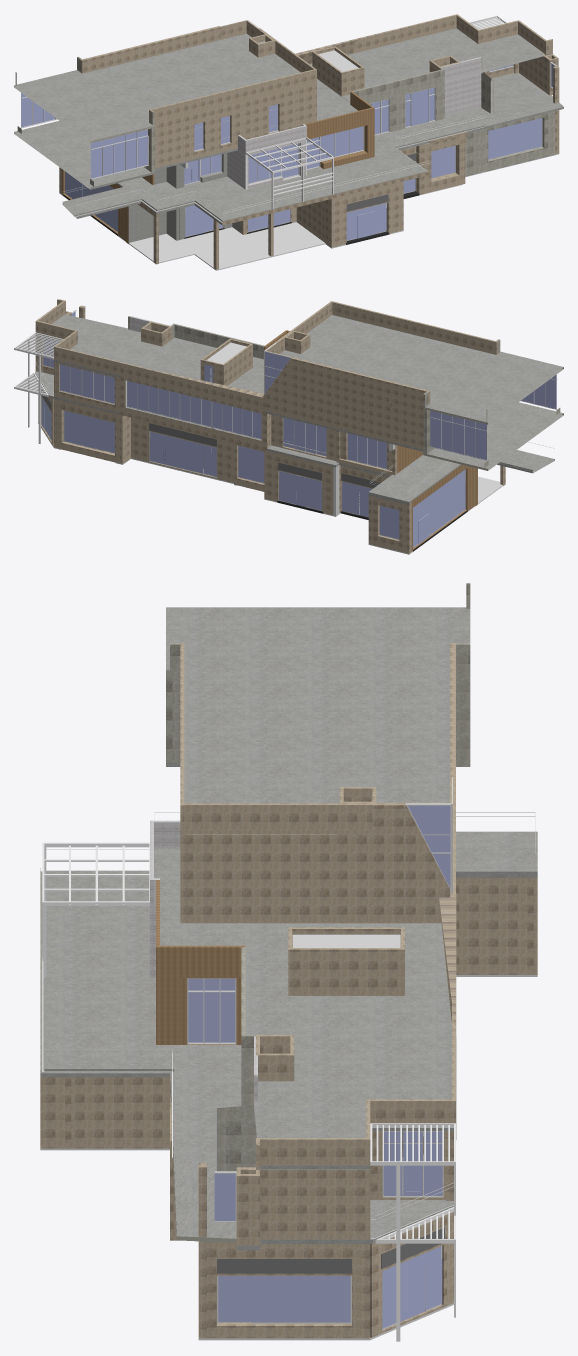
The picture shows the model from 3 angles, top to bottom: view 1: azimuth 30°, elevation 25°; view 2: azimuth 150°, elevation 25°; view 3: azimuth 270°, elevation 25°; orthographic projection. The views are drawn at different scales.
Visible parts, largest first — view 1: S.SLAB-1 S.SLAB-1 [1801362], Floor FLOOR-1 [568405], S.SLAB-2 S.SLAB-2 [363837].007, Floor S.O.G-10CM [1570572], S.SLAB-2 S.SLAB-2 [363837], Basic Wall WALL -30CM [1779040], S.SLAB-1 S.SLAB-1 [1801362].009, Basic Wall WALL -20CM [1814923], Basic Wall WALL -30CM [1778893], Basic Wall WALL -50CM [1603671], Basic Wall WALL -30CM [1781043], Basic Wall WALL -40CM [1609985] (+45 smaller); view 2: S.SLAB-1 S.SLAB-1 [1801362], Basic Wall WALL -30CM [1778893], S.SLAB-2 S.SLAB-2 [363837].007, Generic Models 5 Generic Models 5 [1834527], S.SLAB-2 S.SLAB-2 [363837], Floor FLOOR-1 [568405], Basic Wall WALL -20CM [1814923], Basic Wall WALL -20CM [1606954], Basic Wall WALL -30CM [1602697], Basic Wall WALL -50CM [1608965], S.SLAB-1 S.SLAB-1 [1801362].009, Canopy-3 Canopy-3 [975324] (+37 smaller); view 3: S.SLAB-1 S.SLAB-1 [1801362], Floor FLOOR-1 [568405], S.SLAB-2 S.SLAB-2 [363837].007, Basic Wall WALL -30CM [1807120], S.SLAB-2 S.SLAB-2 [363837], S.SLAB-1 S.SLAB-1 [1801362].009, Basic Wall WALL -30CM [1670039], Basic Wall WALL -20CM [1597624], Basic Wall WALL -20CM [1604252], Basic Wall WALL -40CM [1610309], Basic Wall WALL -20CM [1783002], Basic Wall WALL -20CM [1816104] (+33 smaller).
Part boxes in pixels (x1,y1,x2,y2): S.SLAB-1 S.SLAB-1 [1801362]: (14, 33, 316, 143); Floor FLOOR-1 [568405]: (62, 107, 484, 221); S.SLAB-2 S.SLAB-2 [363837].007: (310, 28, 552, 103); Floor S.O.G-10CM [1570572]: (59, 153, 559, 270); S.SLAB-2 S.SLAB-2 [363837]: (14, 79, 374, 189); Basic Wall WALL -30CM [1779040]: (154, 102, 243, 168); S.SLAB-1 S.SLAB-1 [1801362].009: (62, 73, 563, 224); Basic Wall WALL -20CM [1814923]: (149, 69, 316, 122); Basic Wall WALL -30CM [1778893]: (80, 26, 220, 73); Basic Wall WALL -50CM [1603671]: (333, 182, 401, 247); Basic Wall WALL -30CM [1781043]: (246, 89, 296, 139); Basic Wall WALL -40CM [1609985]: (484, 111, 554, 171); S.SLAB-1 S.SLAB-1 [1801362]: (280, 315, 563, 424); Basic Wall WALL -30CM [1778893]: (291, 357, 430, 449); S.SLAB-2 S.SLAB-2 [363837].007: (36, 314, 263, 384); Generic Models 5 Generic Models 5 [1834527]: (120, 363, 271, 450); S.SLAB-2 S.SLAB-2 [363837]: (228, 359, 563, 470); Floor FLOOR-1 [568405]: (368, 450, 554, 503); Basic Wall WALL -20CM [1814923]: (330, 301, 497, 354); Basic Wall WALL -20CM [1606954]: (131, 417, 233, 482); Basic Wall WALL -30CM [1602697]: (267, 450, 333, 515); Basic Wall WALL -50CM [1608965]: (56, 399, 119, 463); S.SLAB-1 S.SLAB-1 [1801362].009: (35, 371, 553, 504); Canopy-3 Canopy-3 [975324]: (14, 332, 63, 443); S.SLAB-1 S.SLAB-1 [1801362]: (166, 607, 470, 834); Floor FLOOR-1 [568405]: (44, 831, 537, 1164); S.SLAB-2 S.SLAB-2 [363837].007: (241, 973, 453, 1169); Basic Wall WALL -30CM [1807120]: (186, 834, 337, 923); S.SLAB-2 S.SLAB-2 [363837]: (149, 762, 470, 977); S.SLAB-1 S.SLAB-1 [1801362].009: (40, 871, 537, 1249); Basic Wall WALL -30CM [1670039]: (240, 1167, 370, 1239); Basic Wall WALL -20CM [1597624]: (456, 878, 527, 974); Basic Wall WALL -20CM [1604252]: (75, 1077, 169, 1148); Basic Wall WALL -40CM [1610309]: (207, 1241, 359, 1338); Basic Wall WALL -20CM [1783002]: (288, 948, 404, 995); Basic Wall WALL -20CM [1816104]: (184, 803, 405, 830).
Bounding box in the file's own units: 51.9 × 15.06 × 22.95.
11 materials, 7 textured.
